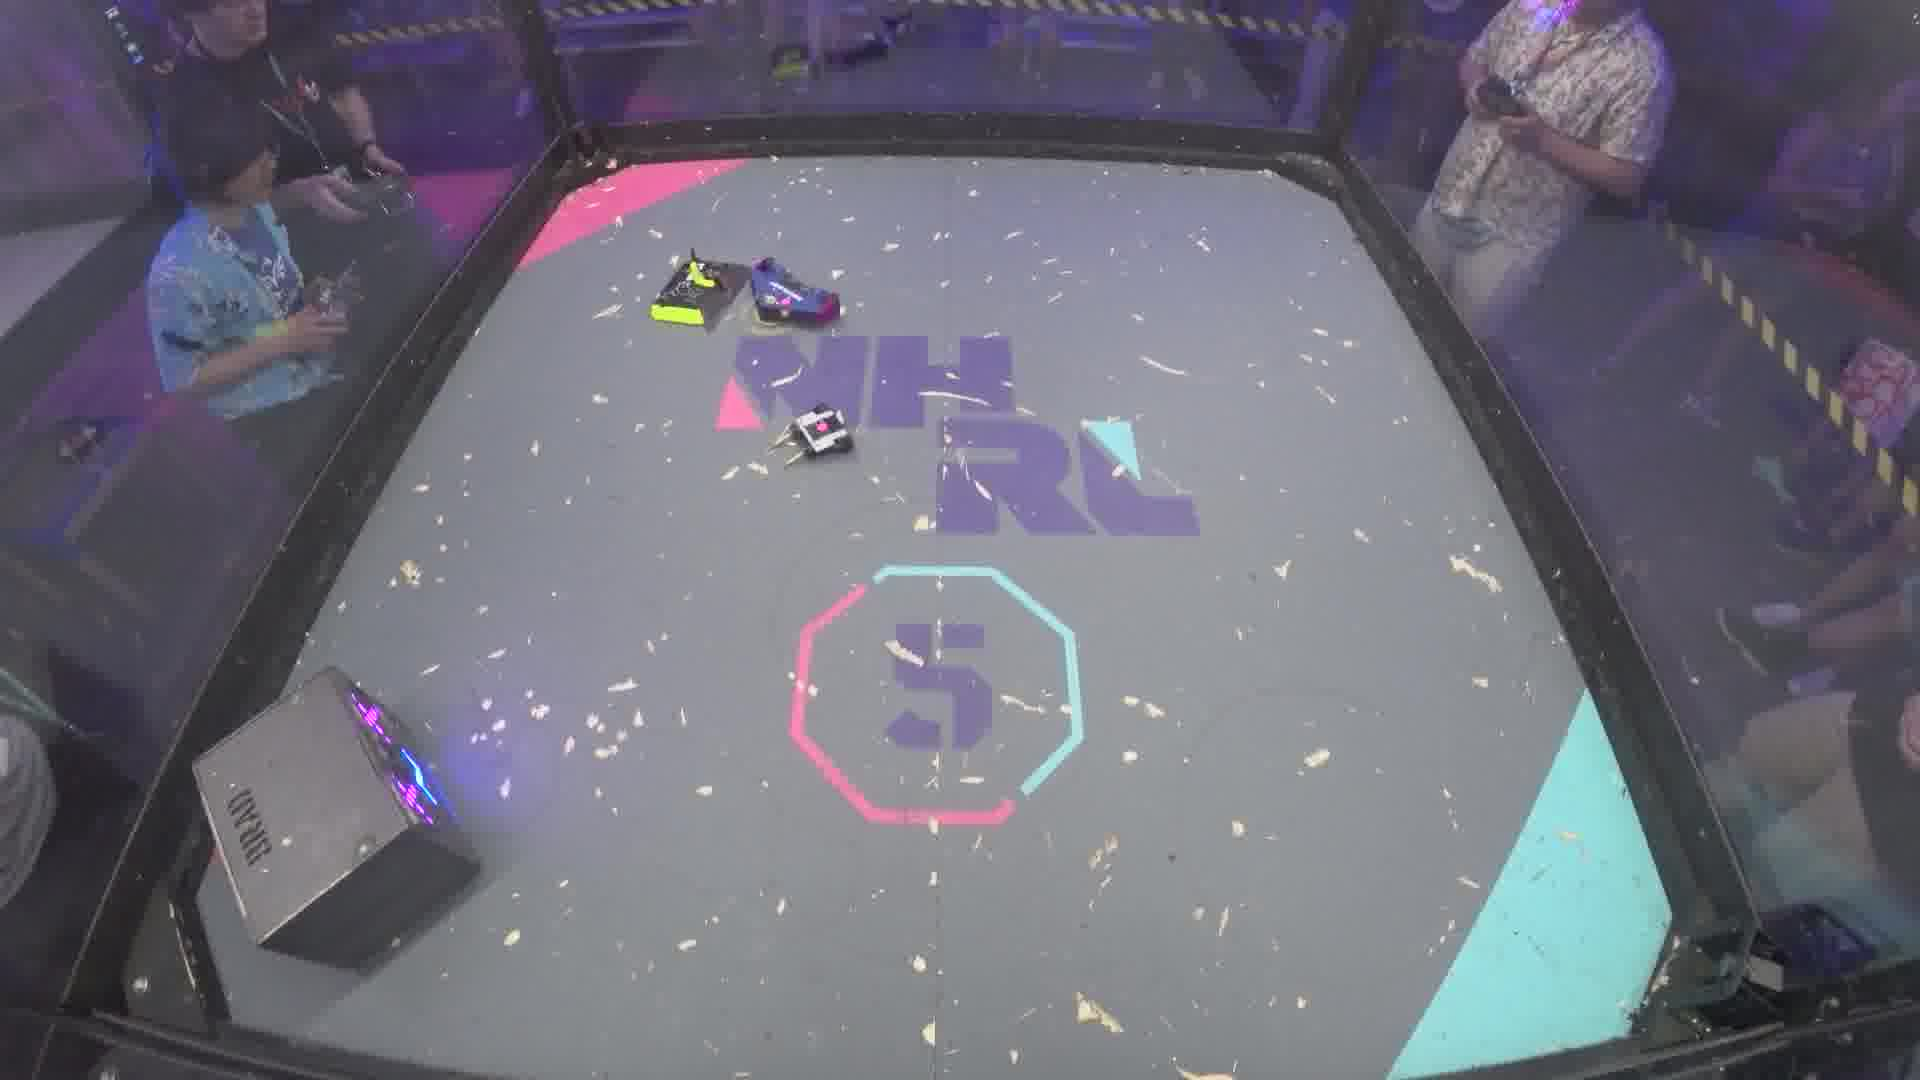combatbot: (647, 253, 749, 335), (748, 258, 844, 331)
housebot: (193, 667, 484, 973)
minibot: (771, 404, 862, 464)
